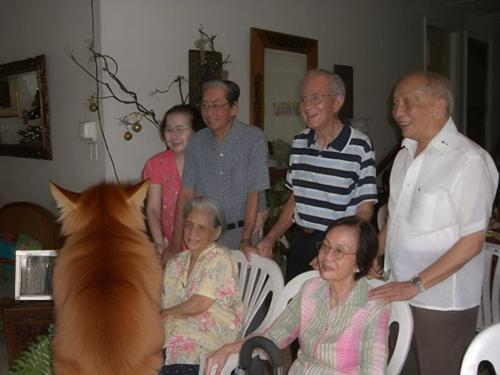cat: (49, 178, 163, 375)
person: (366, 71, 497, 375), (203, 216, 393, 375), (256, 69, 377, 285), (110, 196, 244, 375), (162, 79, 272, 266), (139, 103, 207, 253)
person/hand: (370, 281, 417, 305), (204, 343, 230, 375), (134, 294, 160, 321), (111, 322, 131, 355), (257, 234, 278, 261), (238, 241, 262, 262), (162, 244, 182, 264), (153, 235, 170, 253), (369, 261, 383, 280), (310, 258, 321, 272)
person/head: (390, 71, 450, 140), (315, 219, 367, 288), (298, 71, 347, 132), (182, 200, 225, 251), (201, 82, 242, 131), (163, 107, 195, 151)
